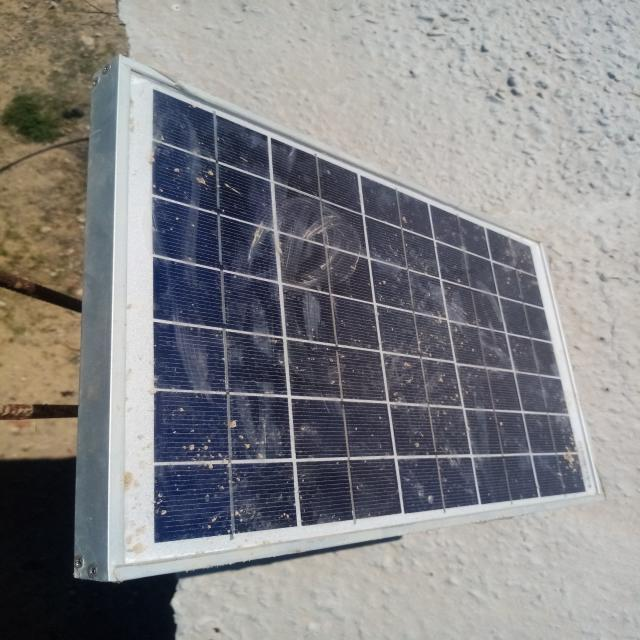faulty: (117, 55, 609, 585)
